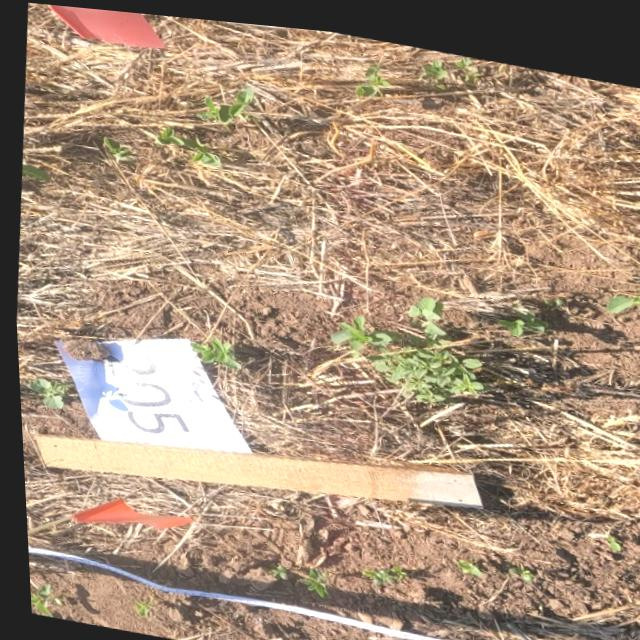caruru_weed: (327, 289, 478, 393)
soy_plant: (154, 124, 217, 160), (195, 83, 252, 119), (421, 46, 478, 80), (186, 333, 235, 364), (494, 300, 544, 326), (353, 56, 388, 89), (602, 274, 640, 301), (24, 583, 54, 616), (353, 557, 399, 577), (100, 135, 132, 159), (294, 562, 320, 590), (502, 555, 526, 573), (451, 551, 475, 566), (127, 596, 145, 613), (600, 521, 614, 539)
